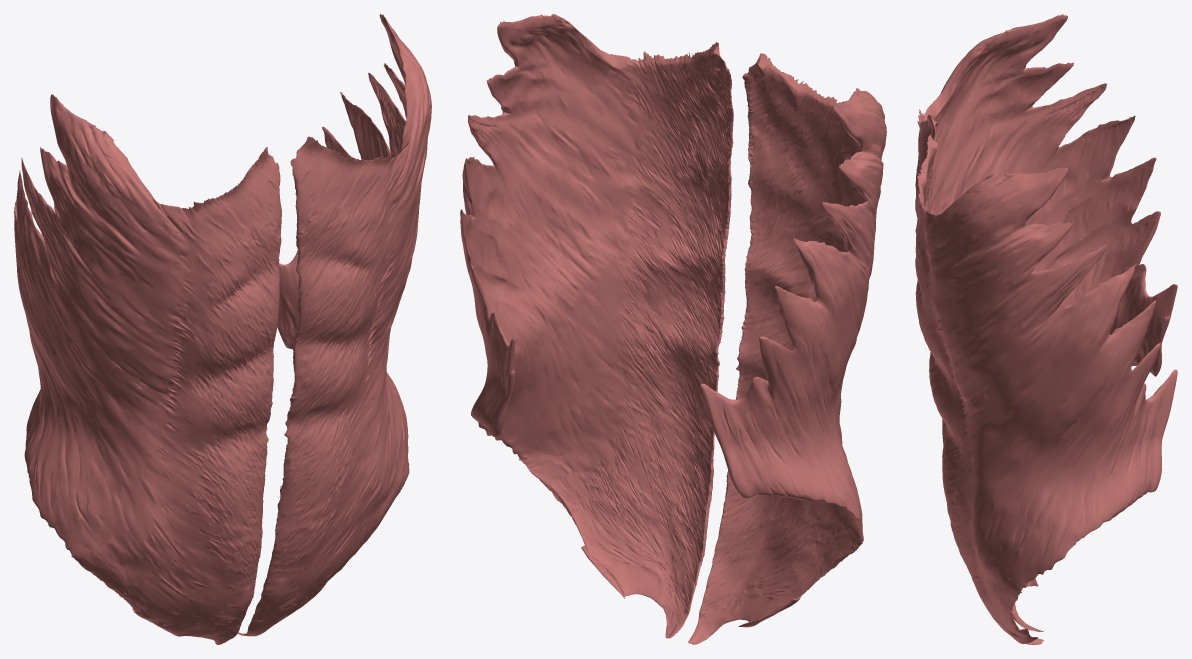
Rendered from muscular-abdomen.glb.
3 renders of one model, left to right at view 1: azimuth 30°, elevation 25°; view 2: azimuth 150°, elevation 25°; view 3: azimuth 270°, elevation 25°, orthographic. The views are drawn at different scales.
Parts seen in each view (by area): view 1: bp3d_FMA13336_FJ1452, bp3d_FMA13337_FJ1452M; view 2: bp3d_FMA13337_FJ1452M, bp3d_FMA13336_FJ1452; view 3: bp3d_FMA13337_FJ1452M, bp3d_FMA13336_FJ1452.
Part boxes in pixels (x1=…): bp3d_FMA13336_FJ1452: x1=14, y1=94, x2=281, y2=644; bp3d_FMA13337_FJ1452M: x1=238, y1=14, x2=431, y2=636; bp3d_FMA13337_FJ1452M: x1=460, y1=14, x2=733, y2=638; bp3d_FMA13336_FJ1452: x1=688, y1=53, x2=886, y2=644; bp3d_FMA13337_FJ1452M: x1=915, y1=135, x2=1177, y2=644; bp3d_FMA13336_FJ1452: x1=915, y1=14, x2=1177, y2=631.
Bounding box in the file's own units: 0.2816 × 0.418 × 0.1817.
